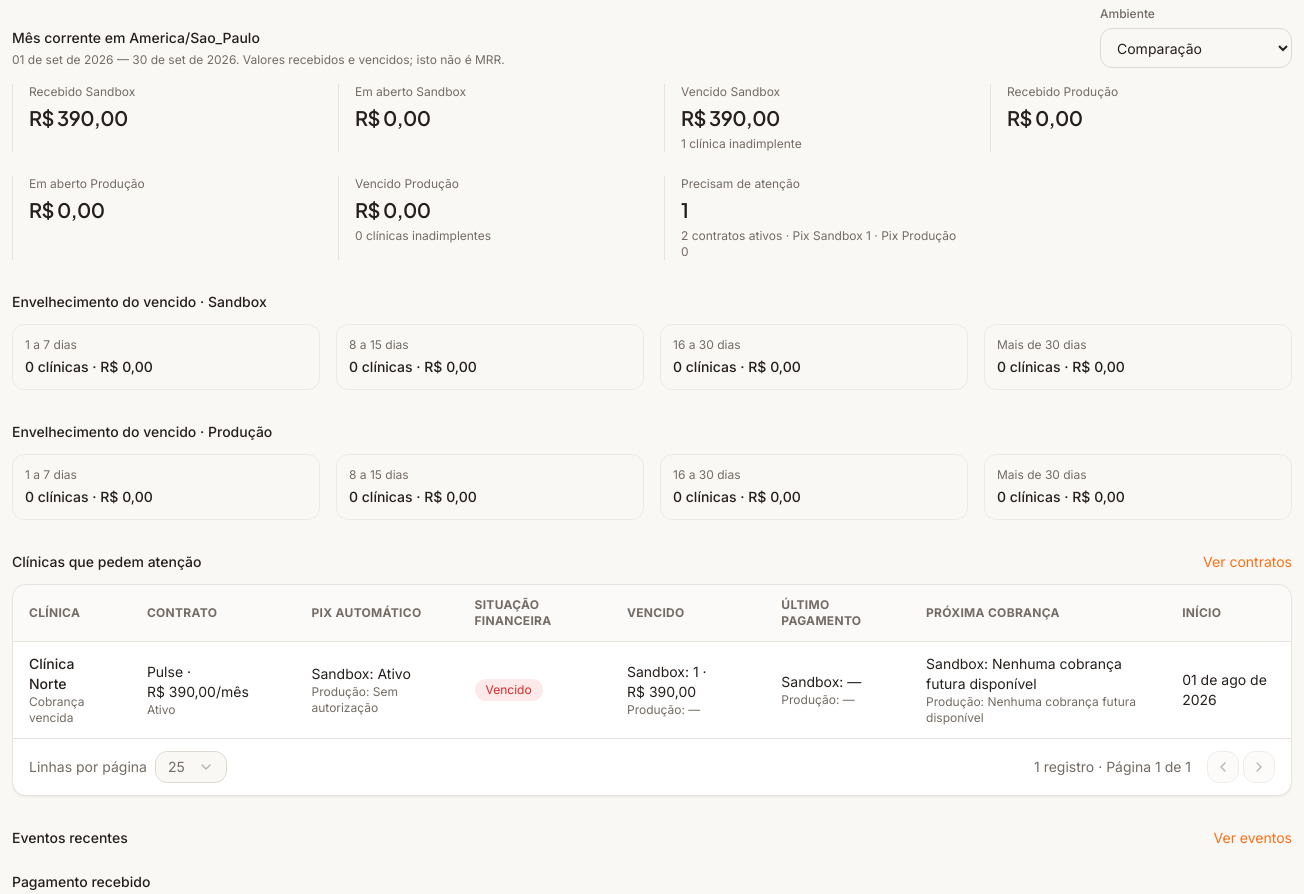
Test: PlatformBillingOverviewPage › sandbox filter hides Production provider aging
Step 1. Select "Sandbox" in the dropdown labelled "Ambiente" → (1196, 48), box left=1100, top=28, right=1292, bottom=68
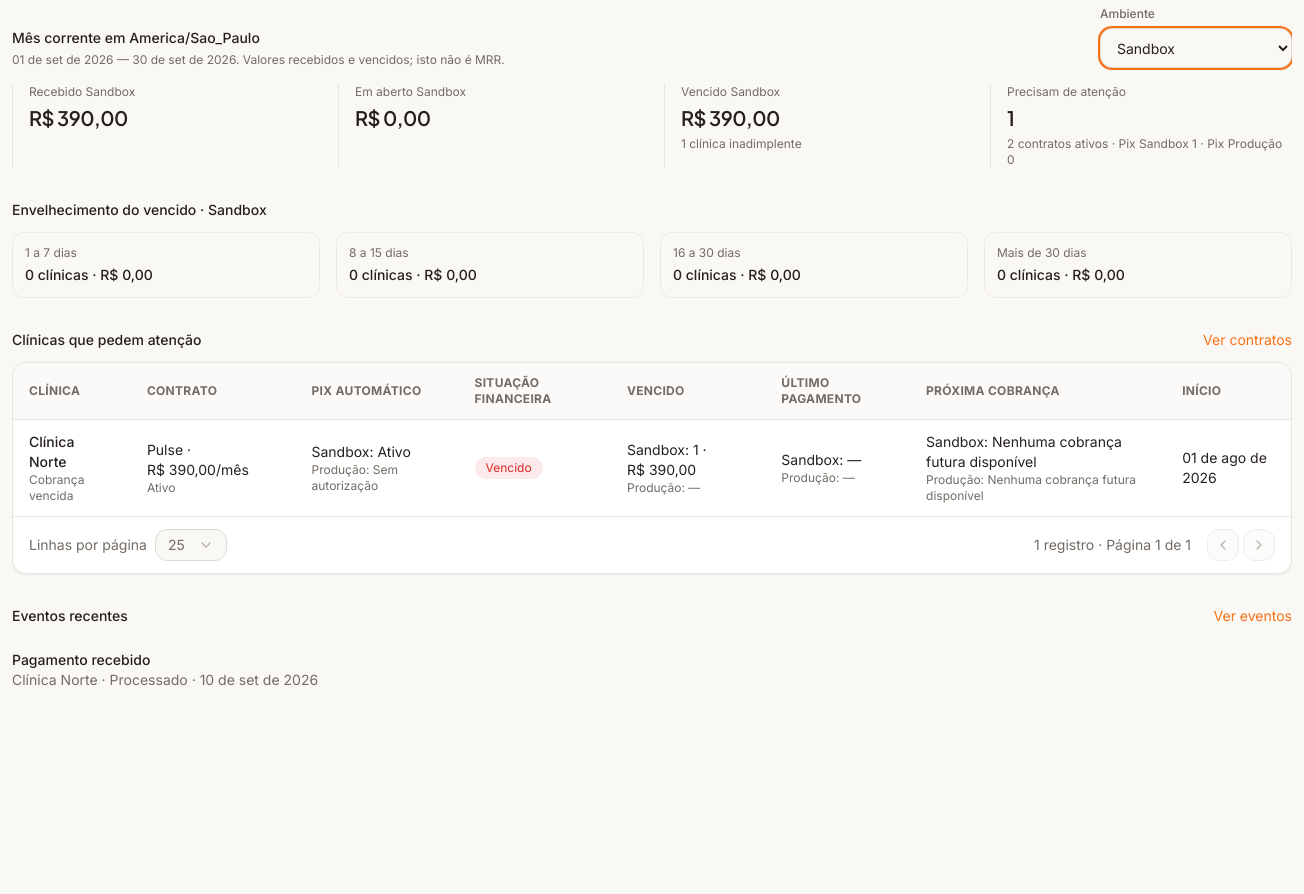
Expected: the heading "Envelhecimento do vencido · Sandbox" is shown, left=12, top=201, right=267, bottom=218
Expected: the heading "Envelhecimento do vencido · Produção" is gone
Expected: the text "Recebido Produção" is gone
